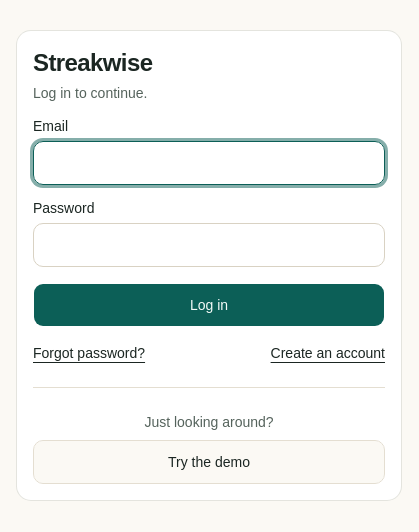
login (ACCT-3, AUTH-4) › shows a calm error for wrong details and stays on the login page
The width and height of the screenshot is (419, 532).
Type "student@example.com" into the field labelled "Email" at (209,162), box [33,140,385,184]
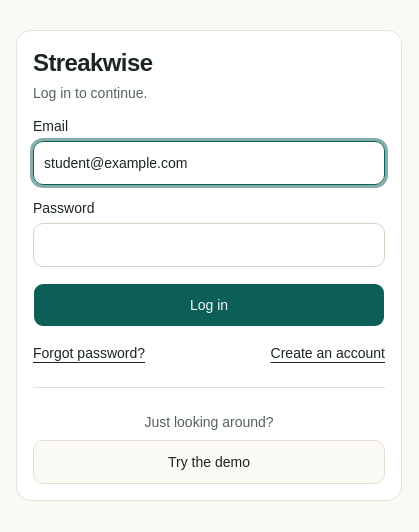
Type "guess" into the password field labelled "Password" at (209,244), box [33,222,385,266]
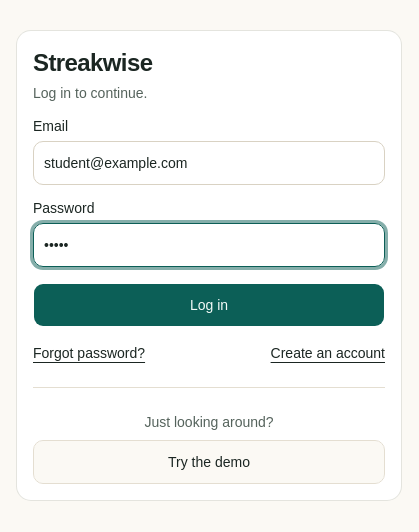
Click the button "Log in" at (209,304), box [33,282,385,326]
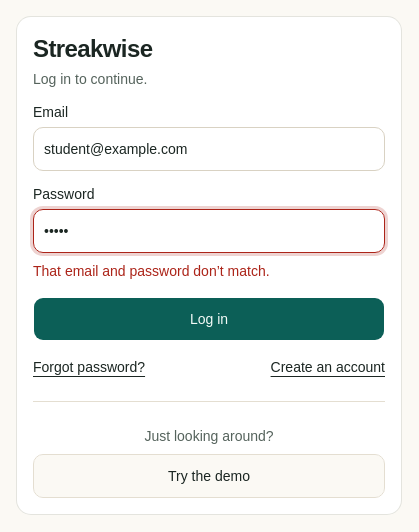
Result: the message shows "don’t match" at [33,262,270,278]
